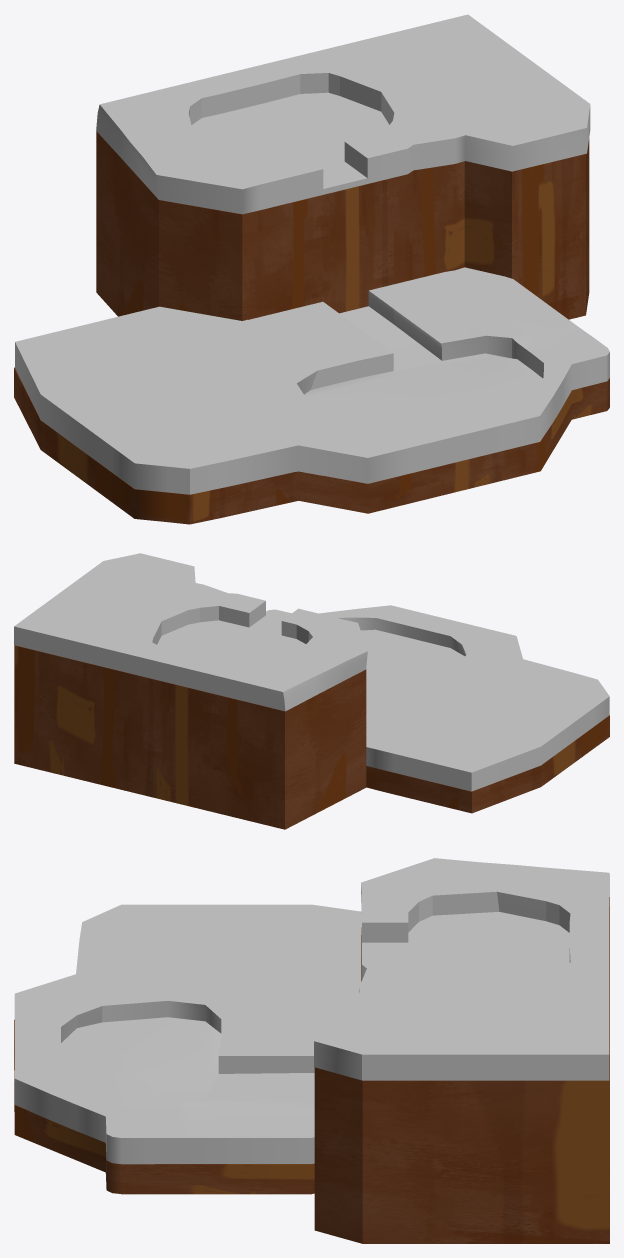
File: Ground.fbx
3 views of the same model, one above another, from view 1: azimuth 30°, elevation 25°; view 2: azimuth 150°, elevation 25°; view 3: azimuth 270°, elevation 25° (orthographic). The views are drawn at different scales.
Visible parts, largest first — view 1: pCube125; view 2: pCube125; view 3: pCube125.
Boxes of the visible parts, left/top/right/bottom form: pCube125: left=14, top=14, right=609, bottom=524; pCube125: left=14, top=553, right=609, bottom=829; pCube125: left=14, top=858, right=609, bottom=1243.
Size of the model in its own units: 810 by 253 by 719.
